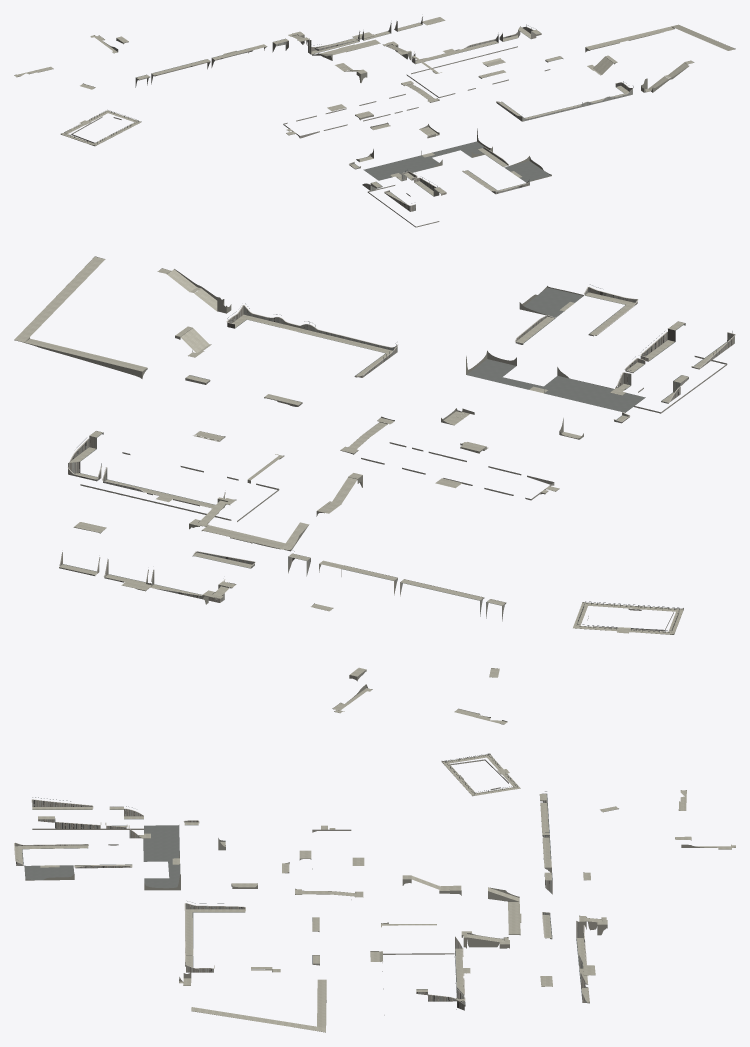
3 renders of one model, top to bottom at view 1: azimuth 30°, elevation 25°; view 2: azimuth 150°, elevation 25°; view 3: azimuth 270°, elevation 25°, orthographic. The views are drawn at different scales.
Visible parts, largest first — view 1: hansung-paving (×2), hansung-stonebank, hansung-asphalt, support-village-photo-door-access__edgeClosure, site-concrete, apron-coping, apron-drain; view 2: hansung-paving (×2), hansung-stonebank, hansung-asphalt, support-village-photo-door-access__edgeClosure, site-concrete, apron-coping, apron-drain; view 3: hansung-paving (×2), hansung-asphalt, hansung-stonebank, support-village-photo-door-access__edgeClosure, apron-coping, apron-drain, site-concrete.
Boxes of the visible parts, x1,y1,x2,y2 form: hansung-paving (×2): [14, 17, 734, 202]; hansung-stonebank: [135, 17, 632, 211]; hansung-asphalt: [364, 141, 550, 182]; support-village-photo-door-access__edgeClosure: [14, 20, 735, 182]; site-concrete: [71, 46, 550, 227]; apron-coping: [310, 17, 632, 205]; apron-drain: [136, 25, 624, 203]; hansung-paving (×2): [14, 256, 727, 724]; hansung-stonebank: [59, 287, 734, 621]; hansung-asphalt: [466, 287, 645, 412]; support-village-photo-door-access__edgeClosure: [14, 256, 683, 724]; site-concrete: [80, 356, 727, 631]; apron-coping: [59, 286, 735, 595]; apron-drain: [63, 295, 726, 605]; hansung-paving (×2): [15, 754, 735, 1032]; hansung-asphalt: [24, 825, 180, 888]; hansung-stonebank: [15, 793, 589, 1010]; support-village-photo-door-access__edgeClosure: [24, 753, 735, 1032]; apron-coping: [14, 799, 588, 1006]; apron-drain: [22, 794, 582, 999]; site-concrete: [32, 759, 508, 1015].
Bounding box in the file's own units: 256 × 28.8 × 251.
Materials: 10 (4 with a texture image).
